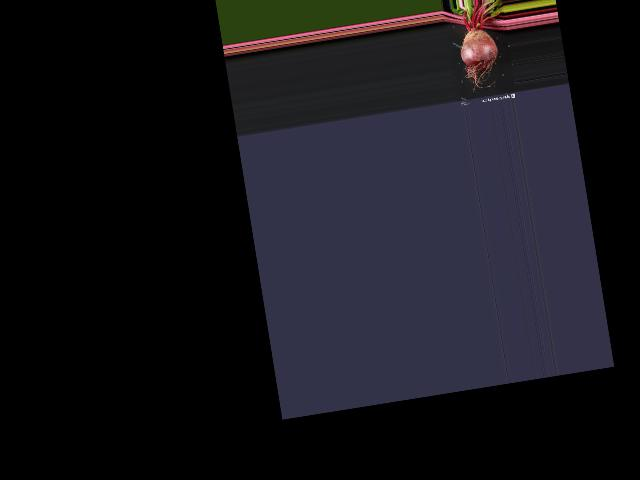beet: (452, 0, 516, 94)
